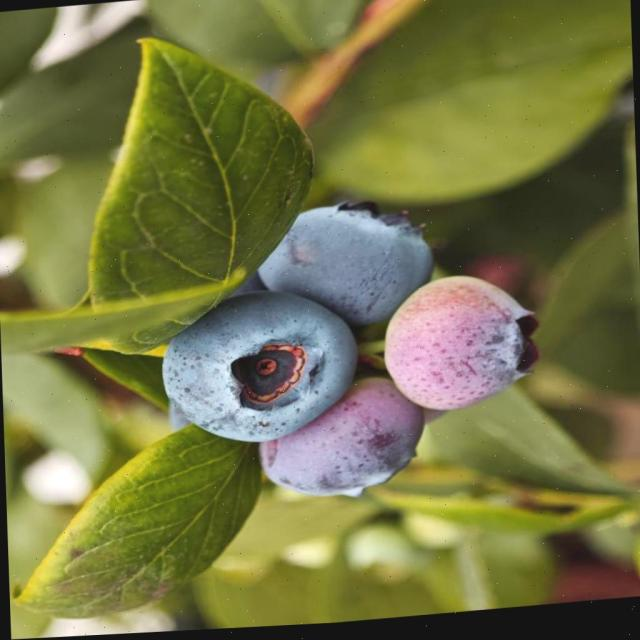RipeBlueBerry: (156, 286, 359, 455), (252, 198, 438, 340)
Semi-RipeBlueBerry: (380, 272, 540, 421), (256, 378, 426, 509)
